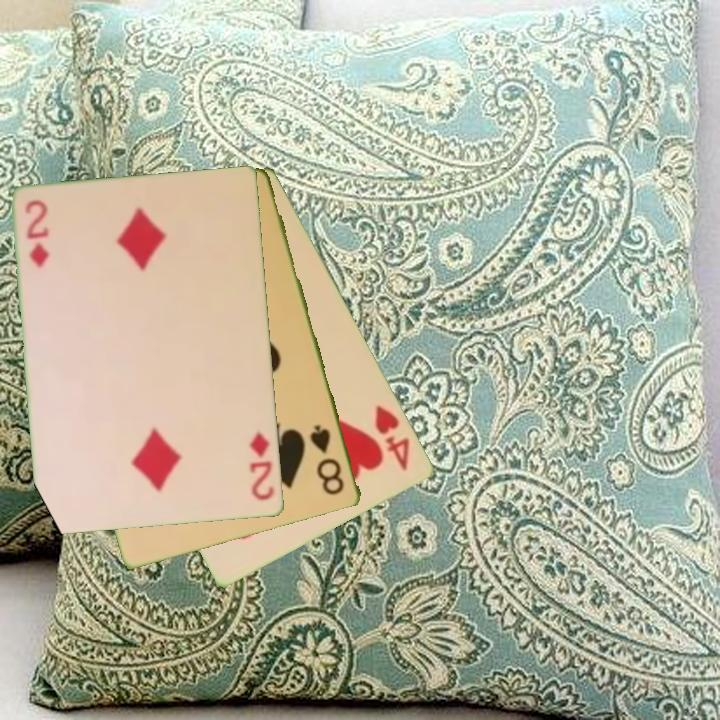2d: (246, 428, 278, 504), (21, 197, 52, 271)
4h: (372, 401, 414, 474)
8s: (307, 421, 348, 499)
